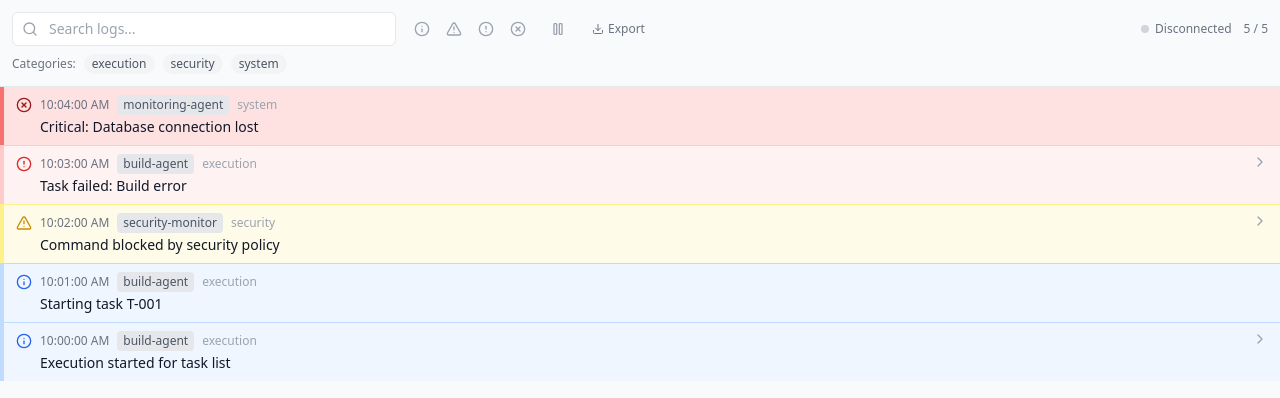
it: UnifiedLogViewer › Severity filter › toggles severity filter when clicked
Expected: the text "Execution started for task list" is shown, [40,353,231,372]
Click the button titled "error" at point(486, 29), box [472,15,500,43]
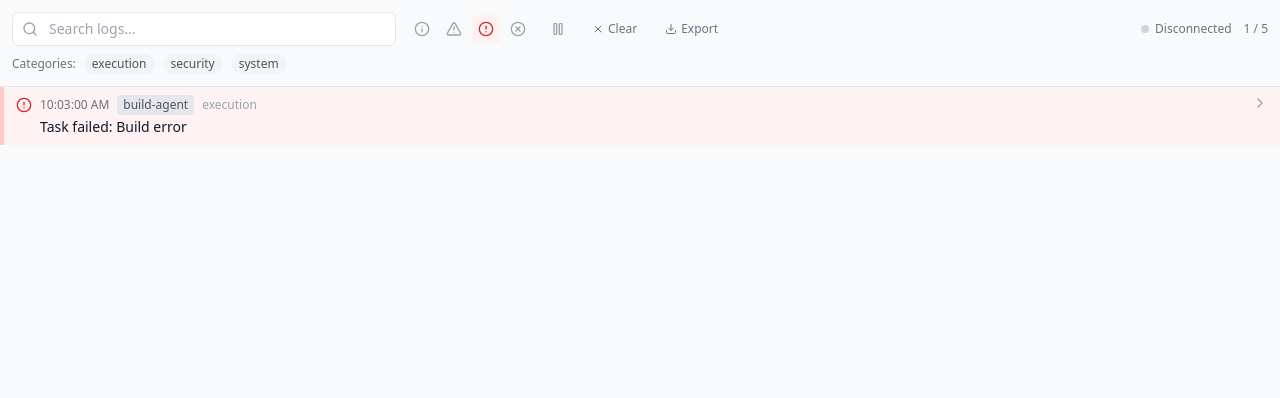
Expected: the text "Task failed: Build error" is shown, [40,117,187,136]
Expected: the text "Execution started for task list" is gone
